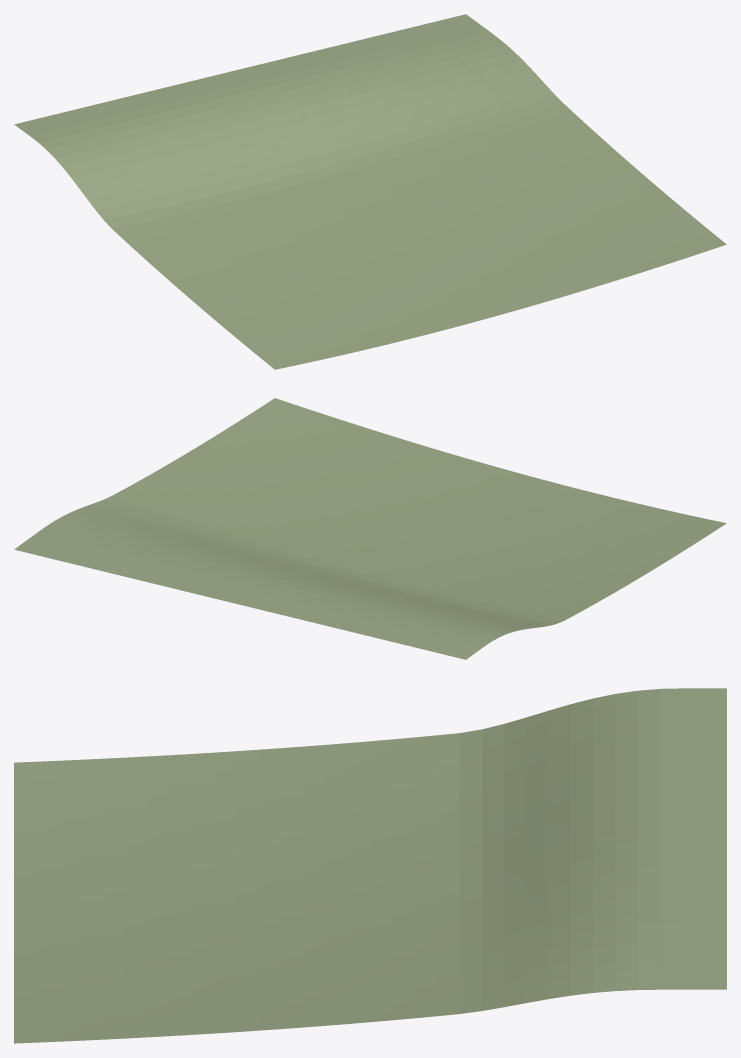
Rendered from valley-13-3.glb.
3 renders of one model, top to bottom at view 1: azimuth 30°, elevation 25°; view 2: azimuth 150°, elevation 25°; view 3: azimuth 270°, elevation 25°, orthographic. The views are drawn at different scales.
Parts seen in each view (by area): view 1: valley-13-3; view 2: valley-13-3; view 3: valley-13-3.
Boxes of the visible parts, x1=… form: valley-13-3: x1=14, y1=14, x2=726, y2=369; valley-13-3: x1=14, y1=398, x2=726, y2=659; valley-13-3: x1=14, y1=688, x2=726, y2=1043.
Size of the model in its own units: 256 by 30.56 by 256.
